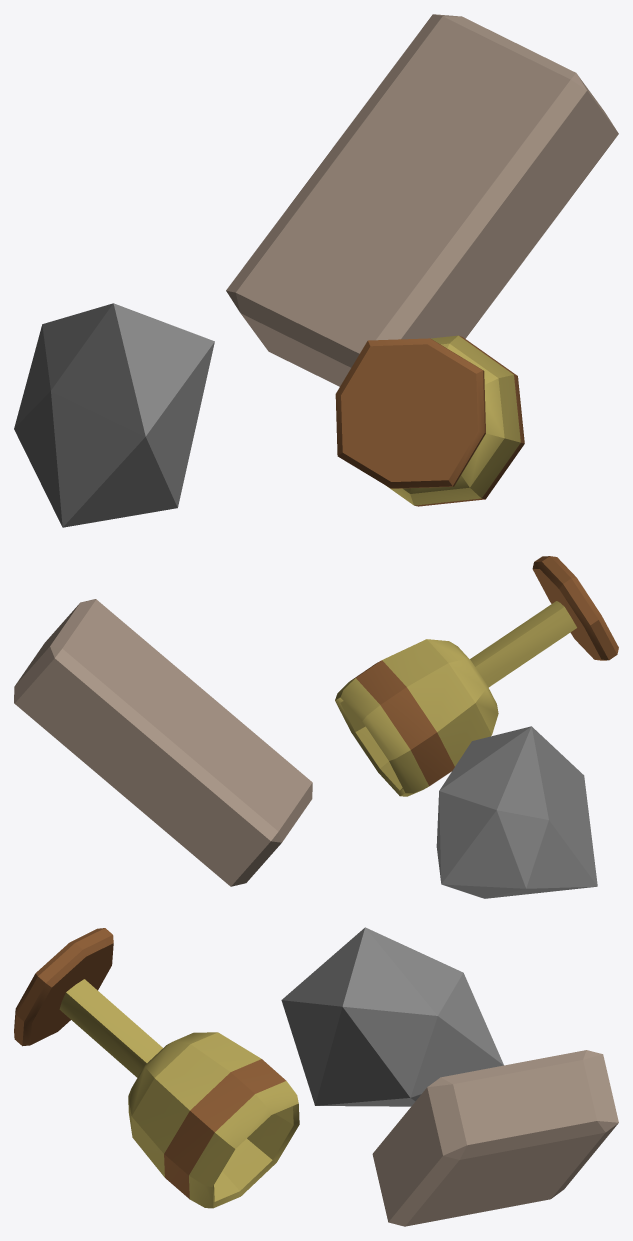
The model's file is debris.fbx.
3 views of the same model, one above another, from view 1: azimuth 30°, elevation 25°; view 2: azimuth 150°, elevation 25°; view 3: azimuth 270°, elevation 25° (orthographic). The views are drawn at different scales.
Parts seen in each view (by area): view 1: Cube.002; view 2: Cube.002; view 3: Cube.002.
Part boxes in pixels (x1=…): Cube.002: x1=14, y1=14, x2=618, y2=527; Cube.002: x1=14, y1=556, x2=618, y2=898; Cube.002: x1=14, y1=927, x2=618, y2=1226.
Size of the model in its own units: 62.29 by 27.06 by 61.8.
